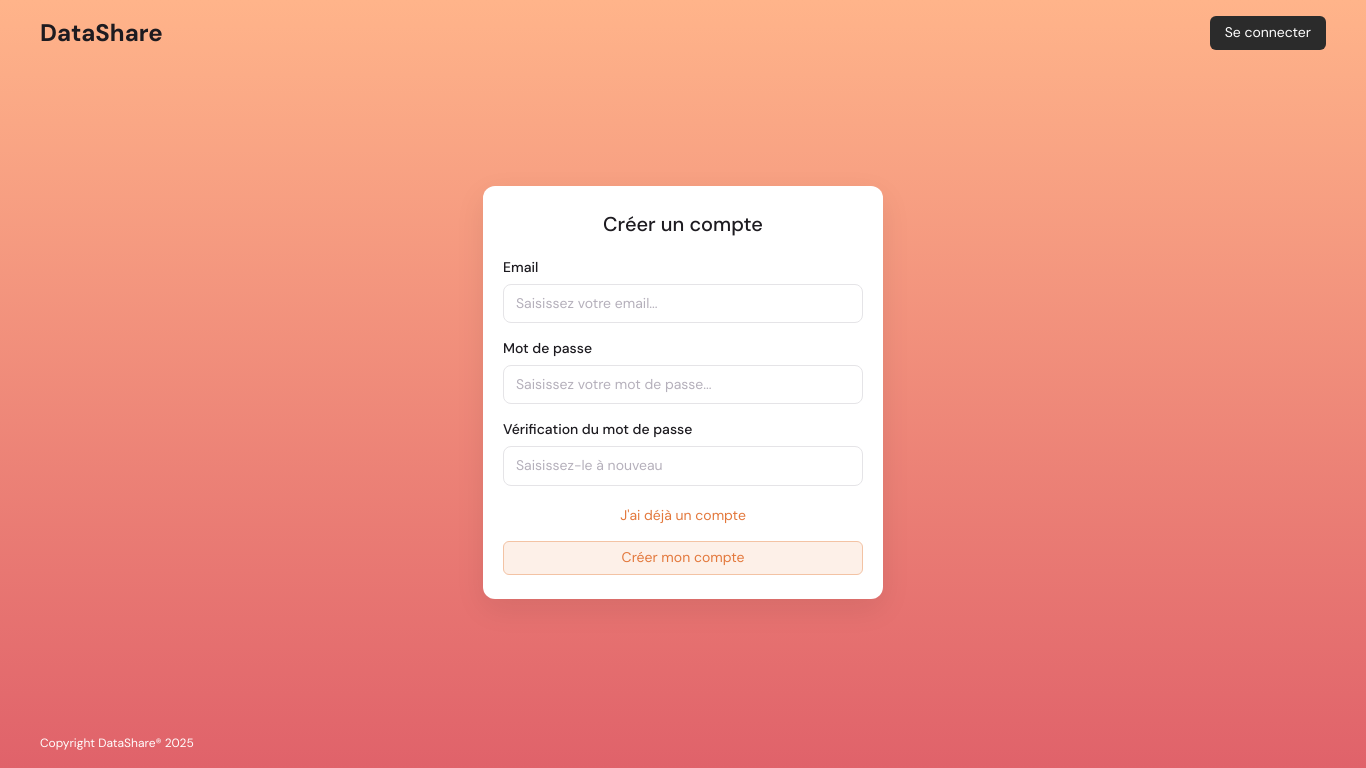
Test case: RegisterPage (US03) › rejects a confirmation that differs from the password
Type "alice@test.fr" into the field labelled "Email".
click(683, 303); type("alice@test.fr")  # box left=503, top=284, right=863, bottom=323
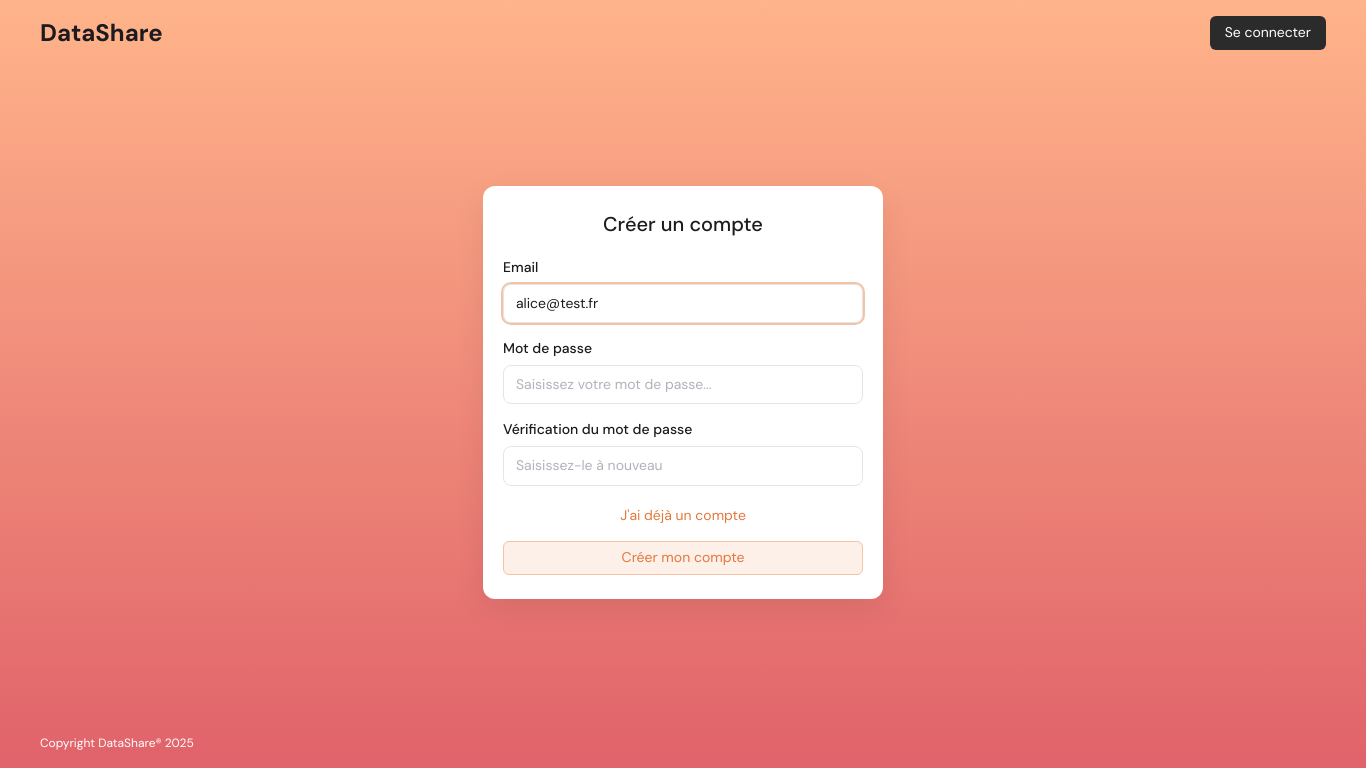
Type "motdepasse" into the password field labelled "Mot de passe".
click(683, 385); type("motdepasse")  # box left=503, top=365, right=863, bottom=404
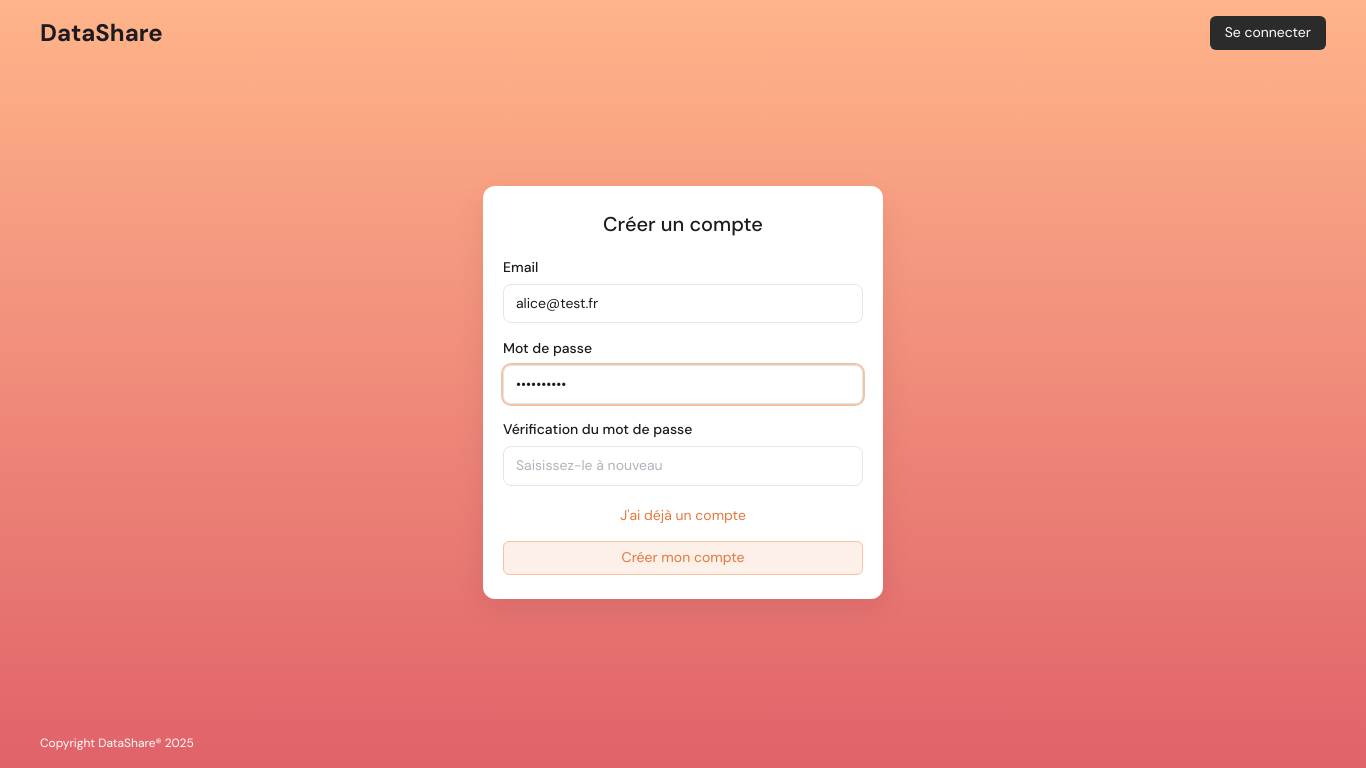
Type "motdepasse2" into the password field labelled "Vérification du mot de passe".
click(683, 466); type("motdepasse2")  # box left=503, top=446, right=863, bottom=486
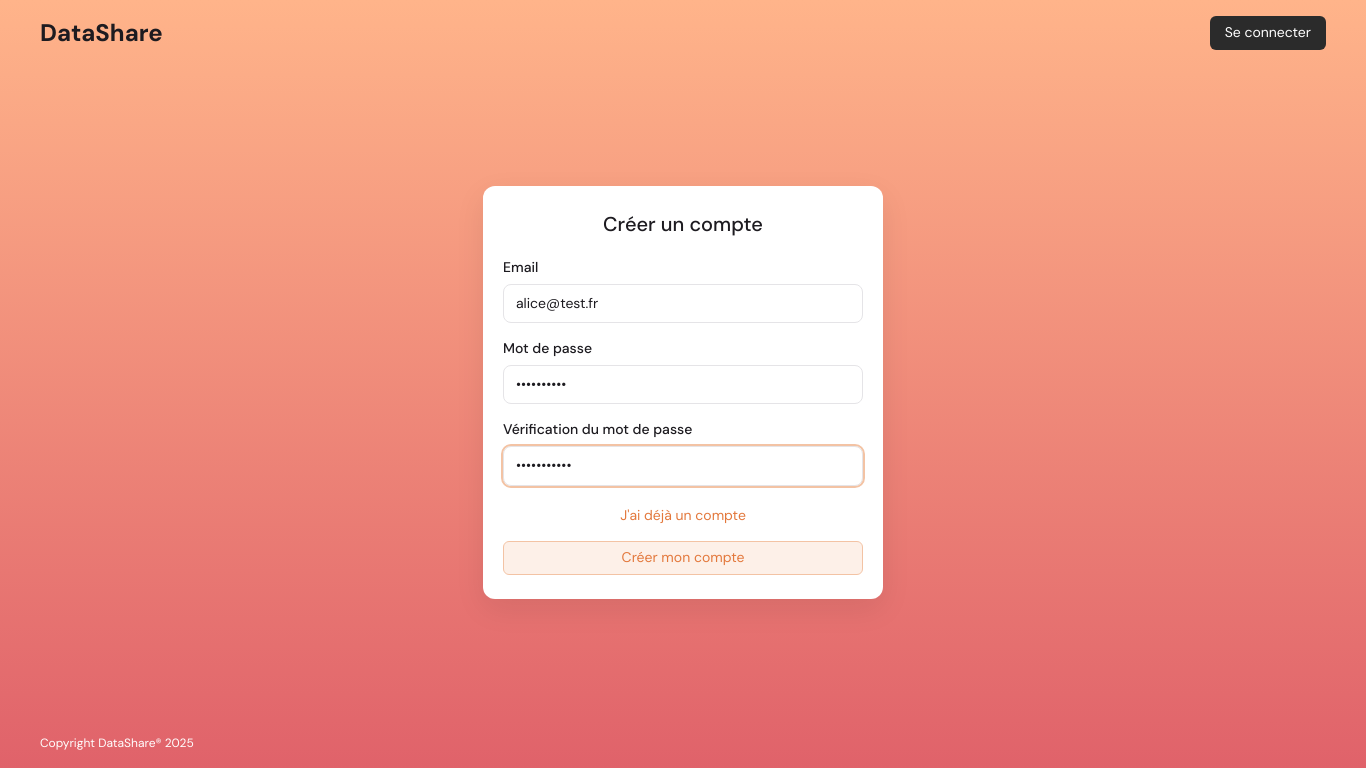
Click the button "Créer mon compte".
click(683, 558)  # box left=503, top=541, right=863, bottom=575
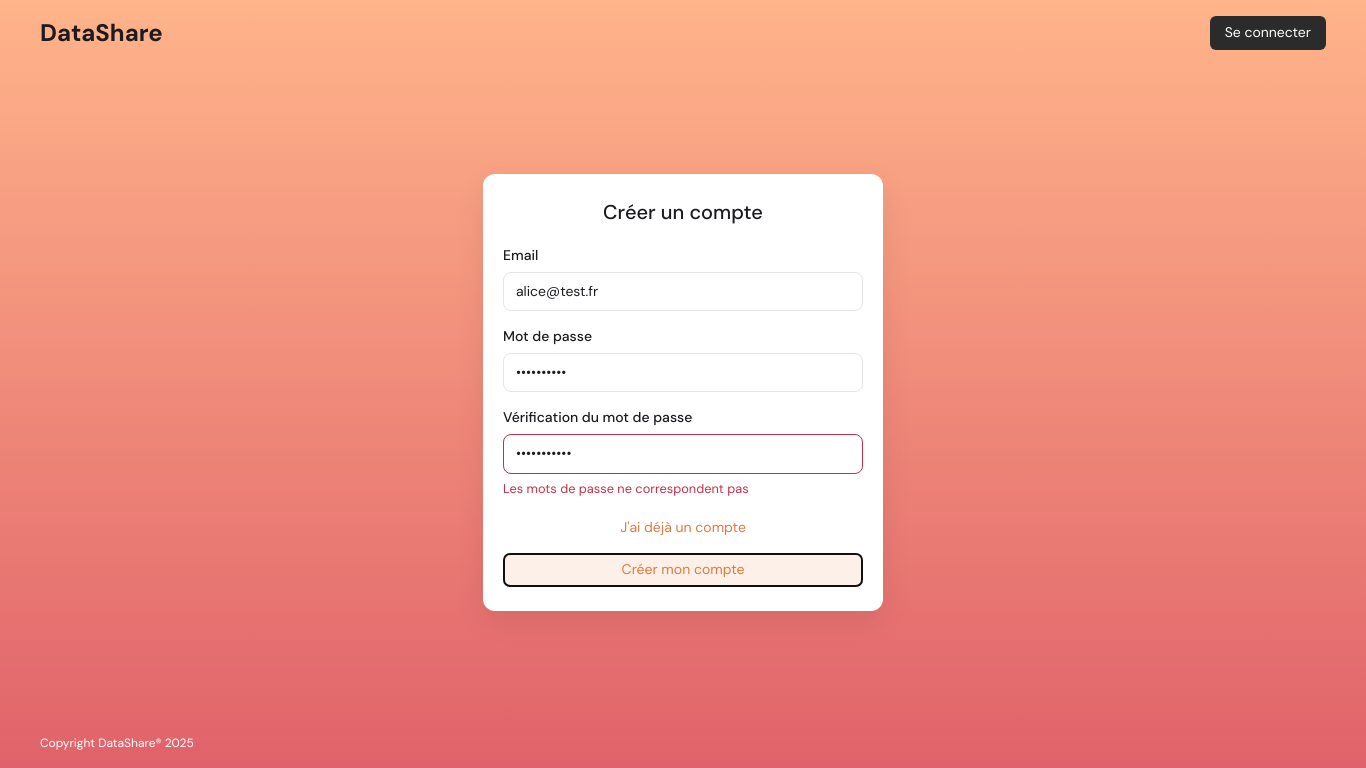
Now the text "Les mots de passe ne correspondent pas" is shown, box left=503, top=480, right=749, bottom=497
